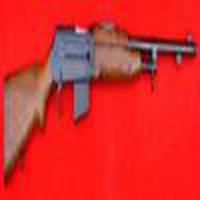gun: (4, 25, 197, 176)
